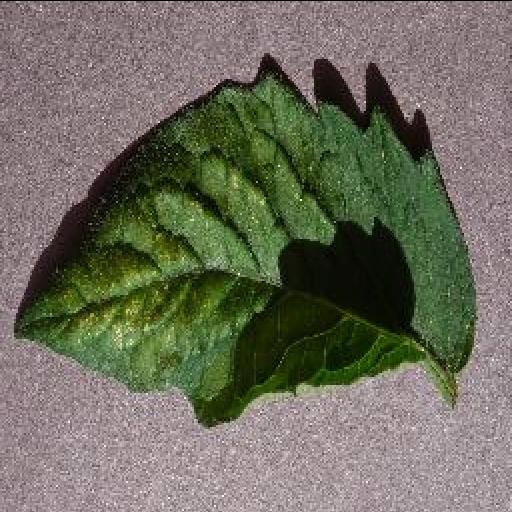disease_tomato: (13, 73, 479, 427)
